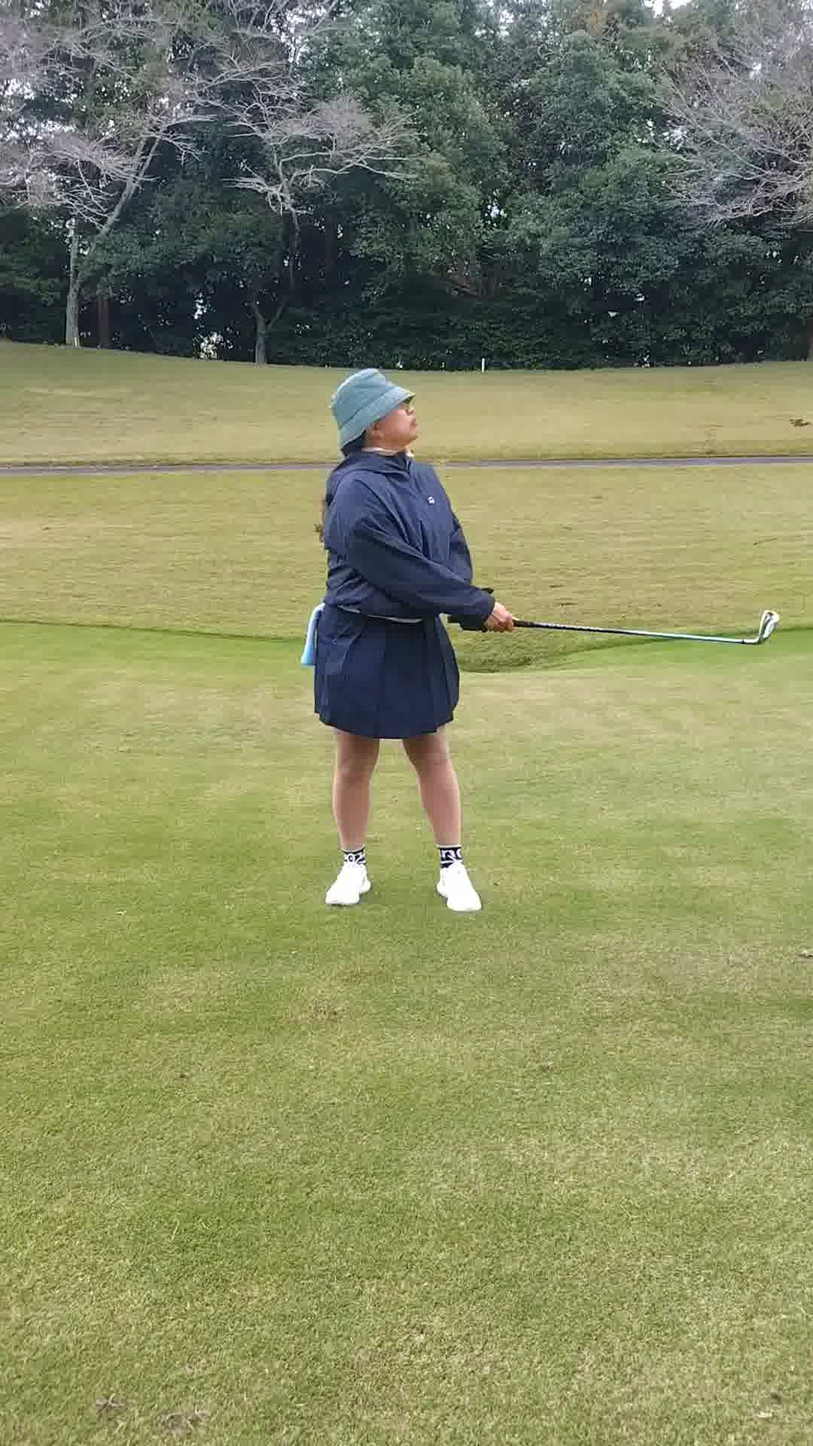clubhead: (727, 551, 776, 725)
